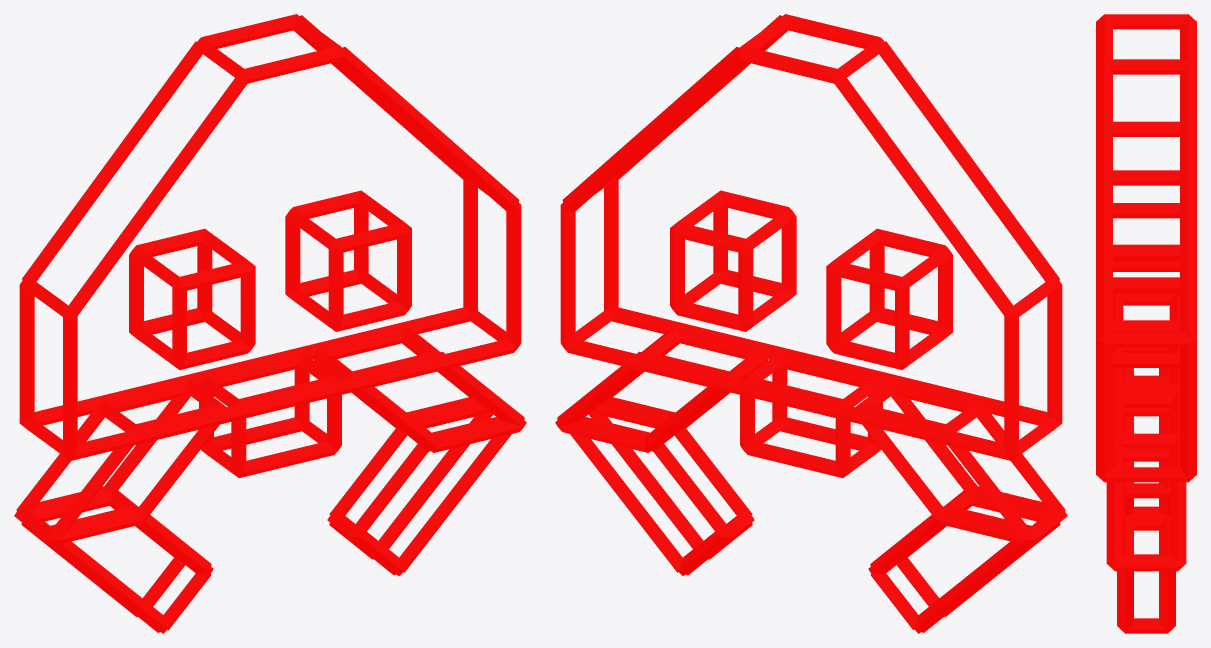
Rendered from Invader_Explo.FBX.
The picture shows the model from 3 angles, left to right: view 1: azimuth 30°, elevation 25°; view 2: azimuth 150°, elevation 25°; view 3: azimuth 270°, elevation 25°; orthographic projection. The views are drawn at different scales.
Parts seen in each view (by area): view 1: Invader_Explo; view 2: Invader_Explo; view 3: Invader_Explo.
Part boxes in pixels (x1=…): Invader_Explo: x1=14, y1=14, x2=526, y2=633; Invader_Explo: x1=555, y1=14, x2=1067, y2=633; Invader_Explo: x1=1096, y1=14, x2=1196, y2=633.
Bounding box in the file's own units: 105 × 116 × 19.6.
